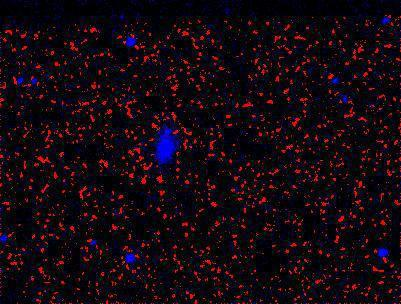star: (155, 115, 185, 145)
